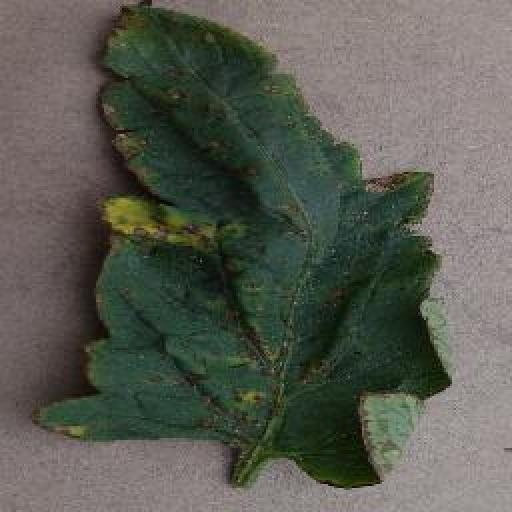Bacterial Spot: (34, 0, 460, 488)
